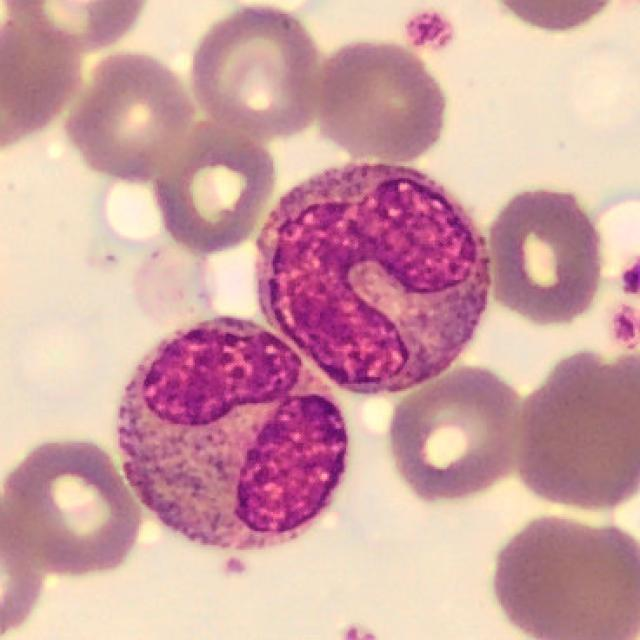Bastonete: (256, 161, 490, 393)
Neutrofilo segmentado: (114, 315, 350, 551)
